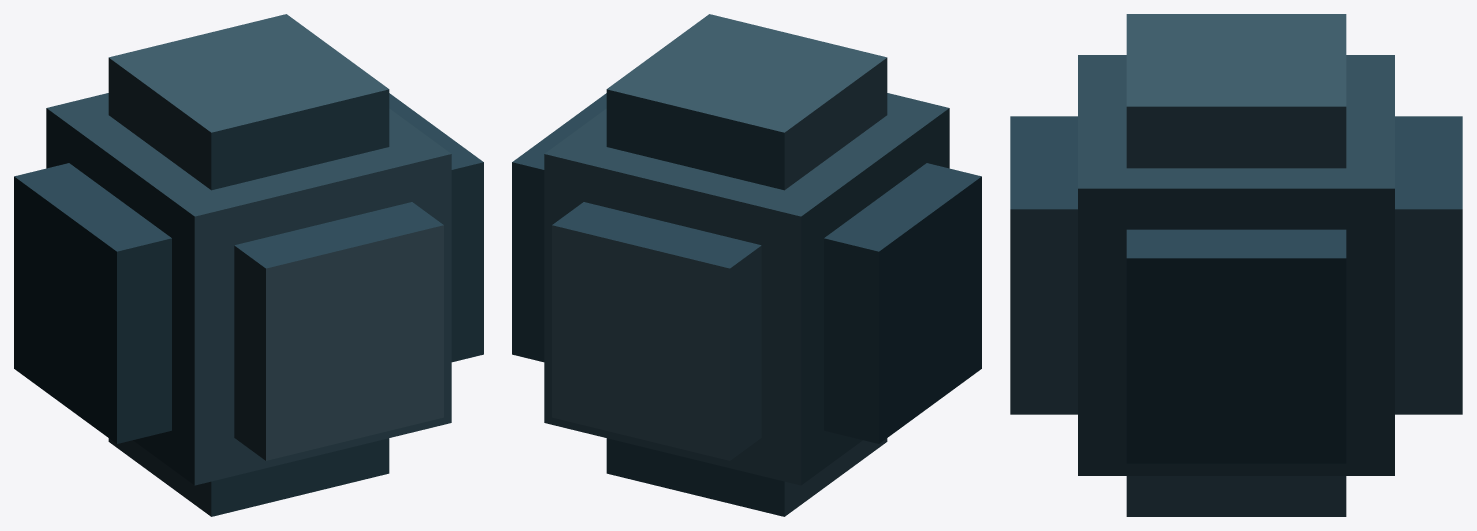
The model's file is PRJ_Boulder.fbx.
3 views of the same model, side by side, from view 1: azimuth 30°, elevation 25°; view 2: azimuth 150°, elevation 25°; view 3: azimuth 270°, elevation 25° (orthographic). The views are drawn at different scales.
Parts seen in each view (by area): view 1: Boulder; view 2: Boulder; view 3: Boulder.
Boxes of the visible parts, x1,y1,x2,y2 form: Boulder: (14, 14, 483, 516); Boulder: (512, 14, 981, 516); Boulder: (1010, 14, 1462, 516).
Bounding box in the file's own units: 49.96 × 50 × 50.
